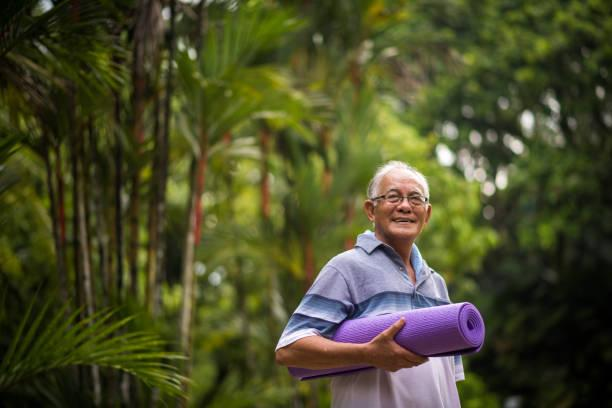Human: (274, 115, 513, 408)
